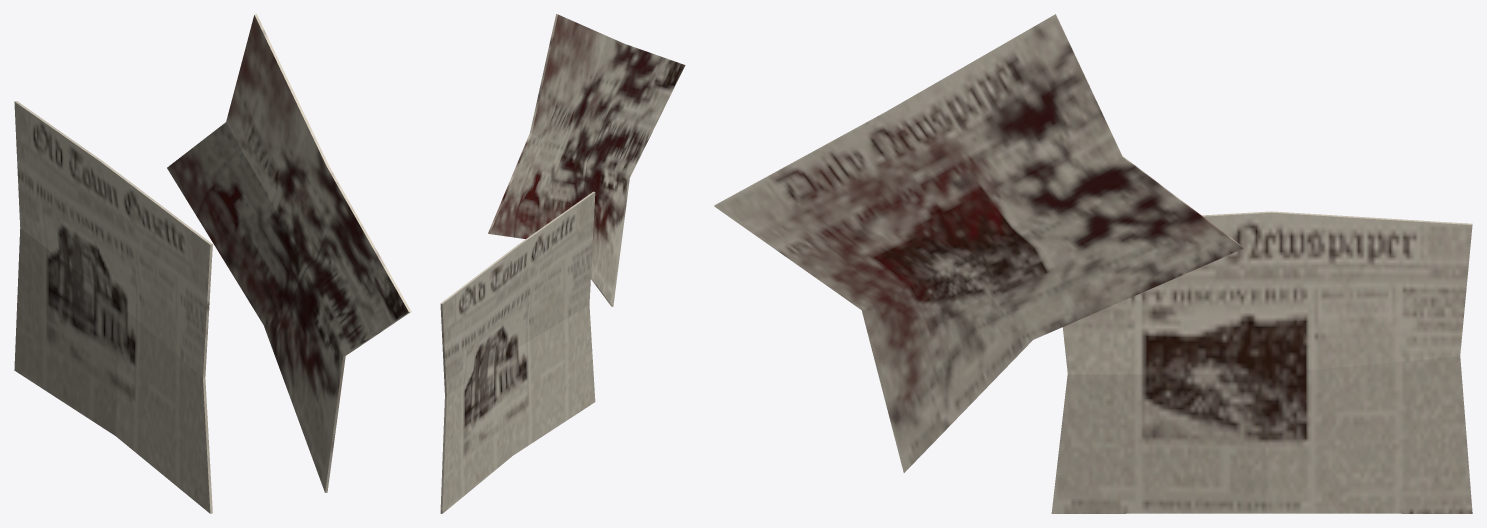
The model's file is PSX_Style_Newspaper.glb.
The picture shows the model from 3 angles, left to right: view 1: azimuth 30°, elevation 25°; view 2: azimuth 150°, elevation 25°; view 3: azimuth 270°, elevation 25°; orthographic projection. The views are drawn at different scales.
Visible parts, largest first — view 1: Plane.001_Material.001_0, Plane_Blood_0; view 2: Plane.001_Material.001_0, Plane_Blood_0; view 3: Plane.001_Material.001_0, Plane_Blood_0.
Boxes of the visible parts, x1,y1,x2,y2 form: Plane.001_Material.001_0: (14, 101, 212, 513); Plane_Blood_0: (167, 14, 411, 492); Plane.001_Material.001_0: (440, 191, 595, 513); Plane_Blood_0: (488, 14, 685, 306); Plane.001_Material.001_0: (1051, 211, 1472, 513); Plane_Blood_0: (714, 14, 1243, 472).
Bounding box in the file's own units: 0.2543 × 1.87 × 2.46.
Materials: 2 (2 with a texture image).
